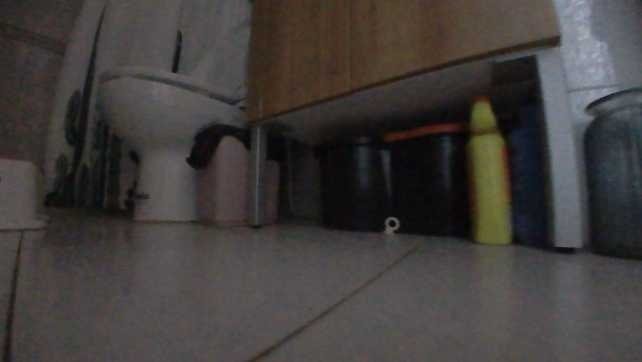toilet: (98, 17, 255, 220)
trash_can: (189, 121, 284, 227)
